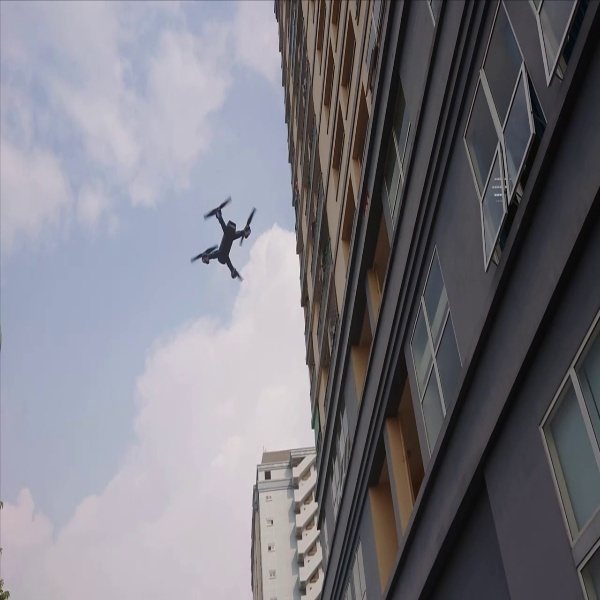drone: (183, 185, 263, 285)
